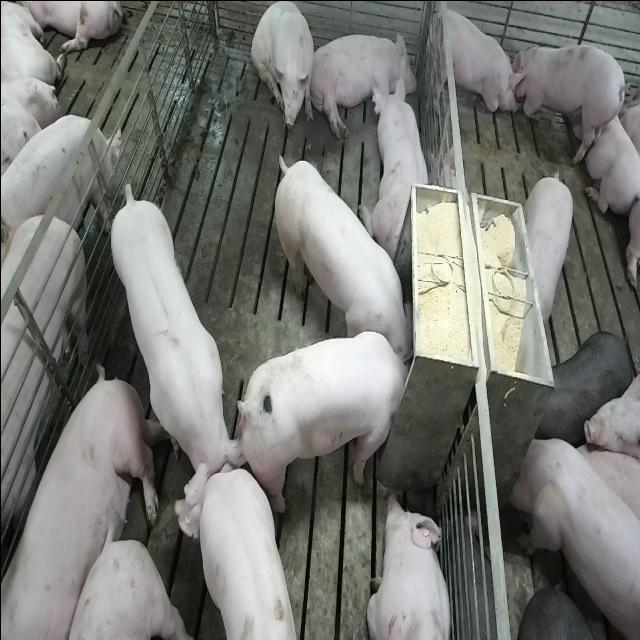Feeding: (243, 330, 419, 514), (269, 147, 411, 360)
Lateral_lying: (3, 366, 158, 640), (307, 27, 417, 140)
Sitting: (422, 0, 515, 124), (250, 2, 316, 136)
Standing: (104, 182, 240, 514), (0, 206, 90, 634), (509, 427, 639, 636), (176, 466, 301, 640), (0, 107, 118, 256), (508, 36, 624, 162), (534, 328, 632, 446), (524, 165, 576, 322)
Sternal_lying: (365, 488, 453, 640), (363, 76, 432, 264), (575, 84, 639, 212)
